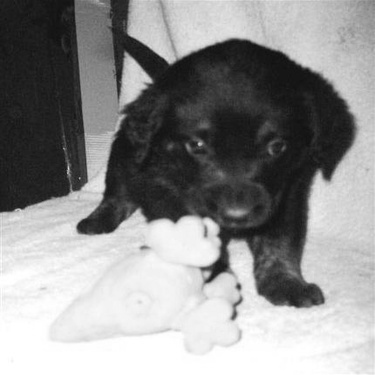dog: (72, 32, 361, 311)
